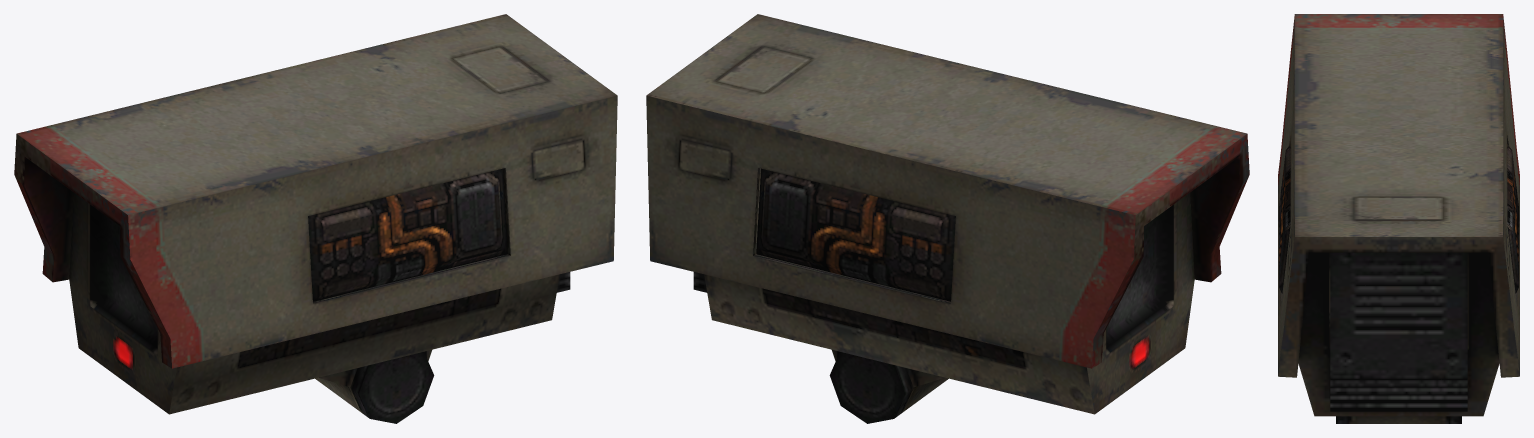
The model's file is camera_flesher_camera.DAE.
3 views of the same model, side by side, from view 1: azimuth 30°, elevation 25°; view 2: azimuth 150°, elevation 25°; view 3: azimuth 270°, elevation 25° (orthographic). The views are drawn at different scales.
Visible parts, largest first — view 1: camera_flesher_camera; view 2: camera_flesher_camera; view 3: camera_flesher_camera.
Boxes of the visible parts, left/top/right/bottom form: camera_flesher_camera: left=14, top=14, right=617, bottom=423; camera_flesher_camera: left=646, top=14, right=1249, bottom=423; camera_flesher_camera: left=1278, top=14, right=1519, bottom=423.
Bounding box in the file's own units: 40.32 × 18.47 × 23.28.
